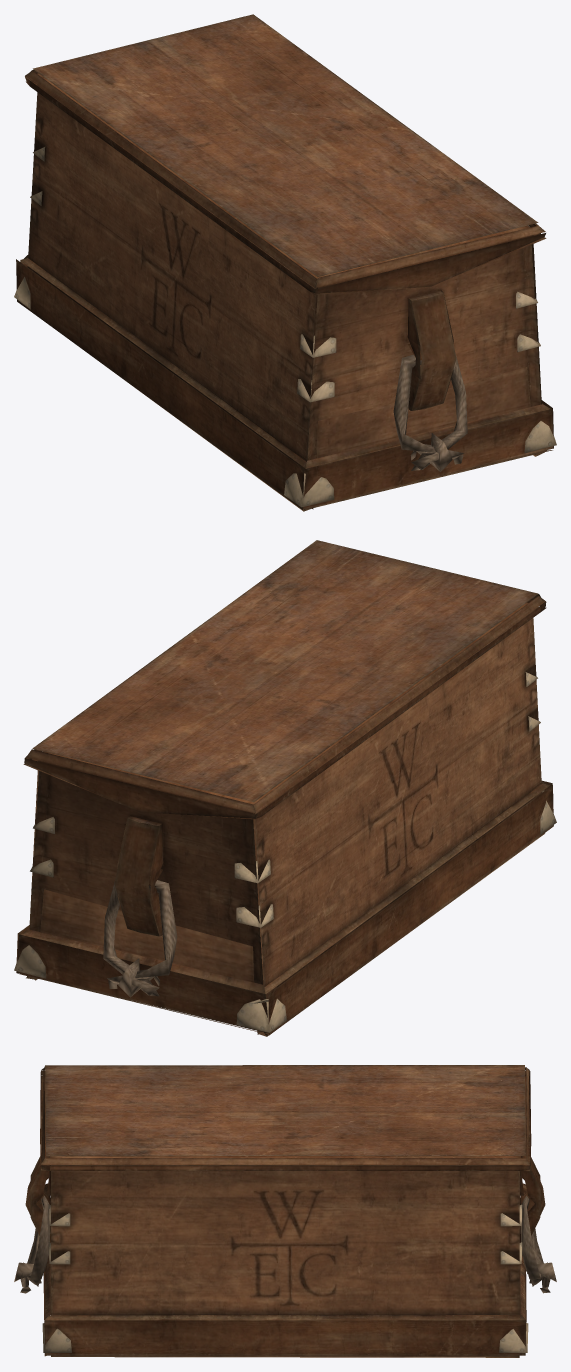
Rendered from crate_b.glb.
3 renders of one model, top to bottom at view 1: azimuth 30°, elevation 25°; view 2: azimuth 150°, elevation 25°; view 3: azimuth 270°, elevation 25°, orthographic. The views are drawn at different scales.
Visible parts, largest first — view 1: wooden_crate_02_crate; view 2: wooden_crate_02_crate; view 3: wooden_crate_02_crate.
Boxes of the visible parts, left/top/right/bottom form: wooden_crate_02_crate: left=14, top=14, right=556, bottom=511; wooden_crate_02_crate: left=14, top=540, right=556, bottom=1036; wooden_crate_02_crate: left=14, top=1065, right=556, bottom=1357.
Bounding box in the file's own units: 0.5291 × 0.466 × 1.15.
Materials: 1 (1 with a texture image).
